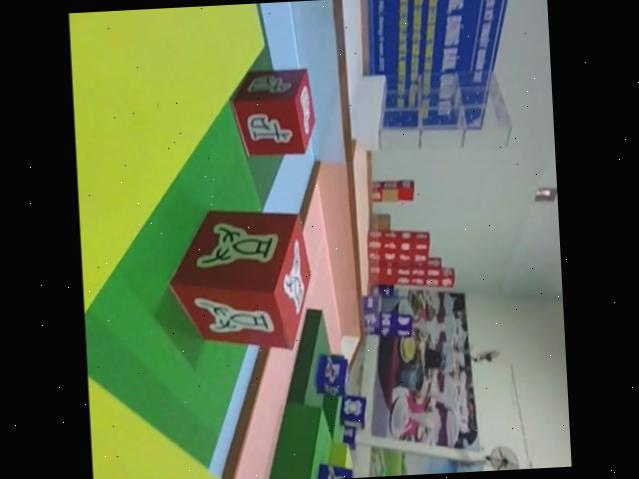R2 Real: (163, 202, 322, 360), (230, 61, 319, 161)
